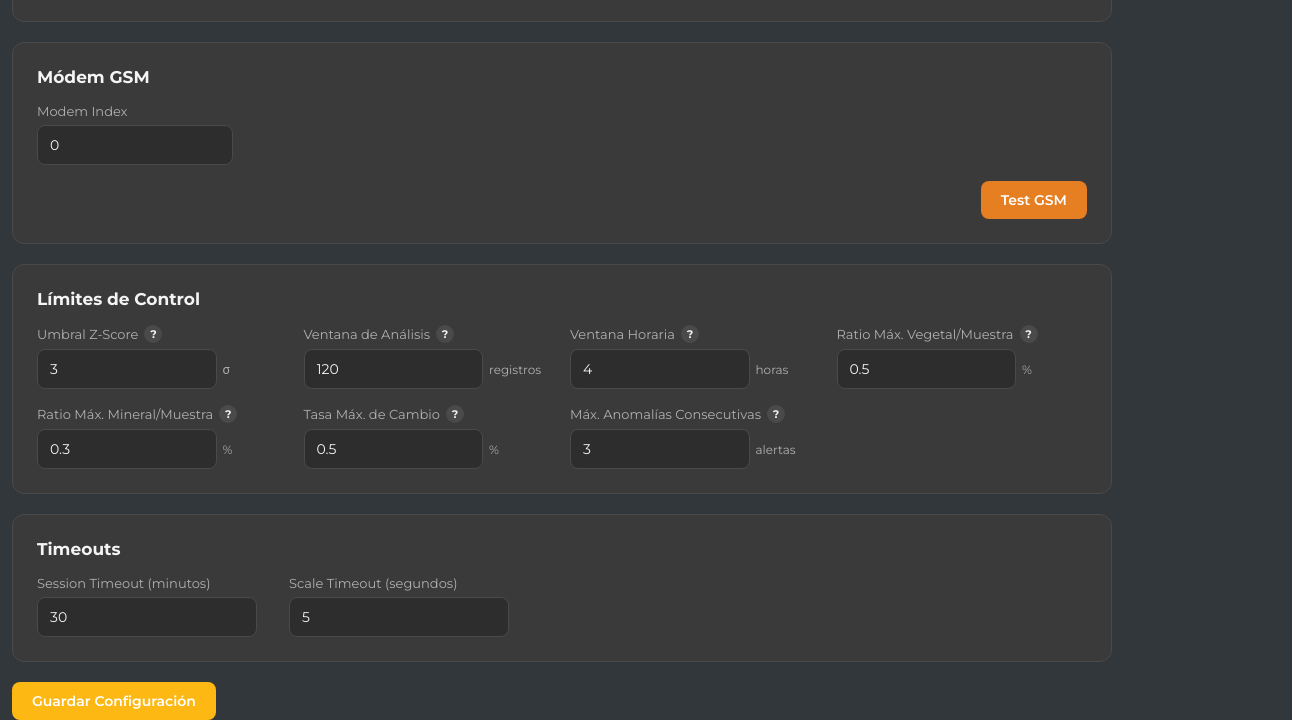
AdminConfig › guardar configuracion (R3) › muestra mensaje de exito tras guardado exitoso
The width and height of the screenshot is (1292, 720).
(page scrolled)
Expected: the heading "Timeouts" is shown, [37,539,120,559]
Step 1. Click the button "Guardar Configuración" → (114, 701), box [12,682,216,719]
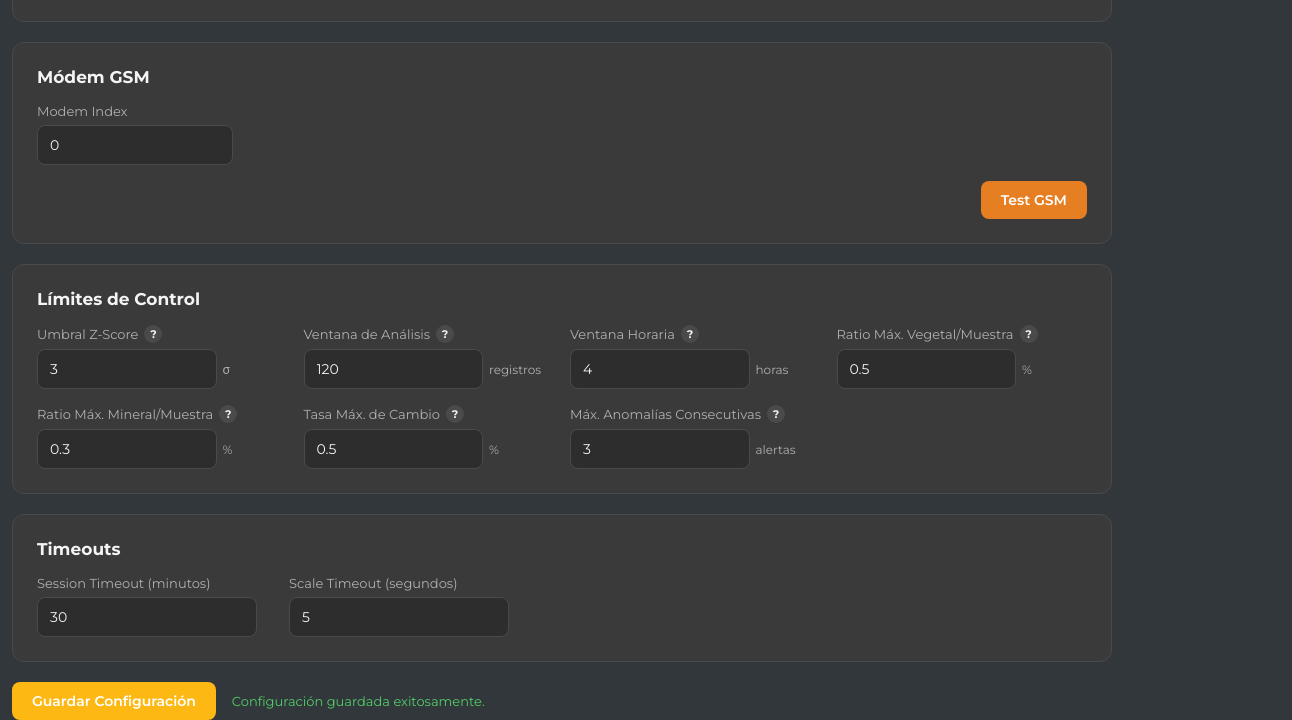
Now the text "Configuración guardada exitosamente." is shown, box [232,693,485,709]
